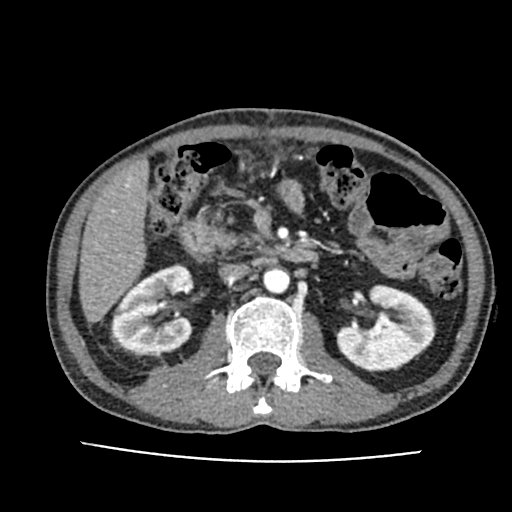aorta: (261, 267, 290, 294)
